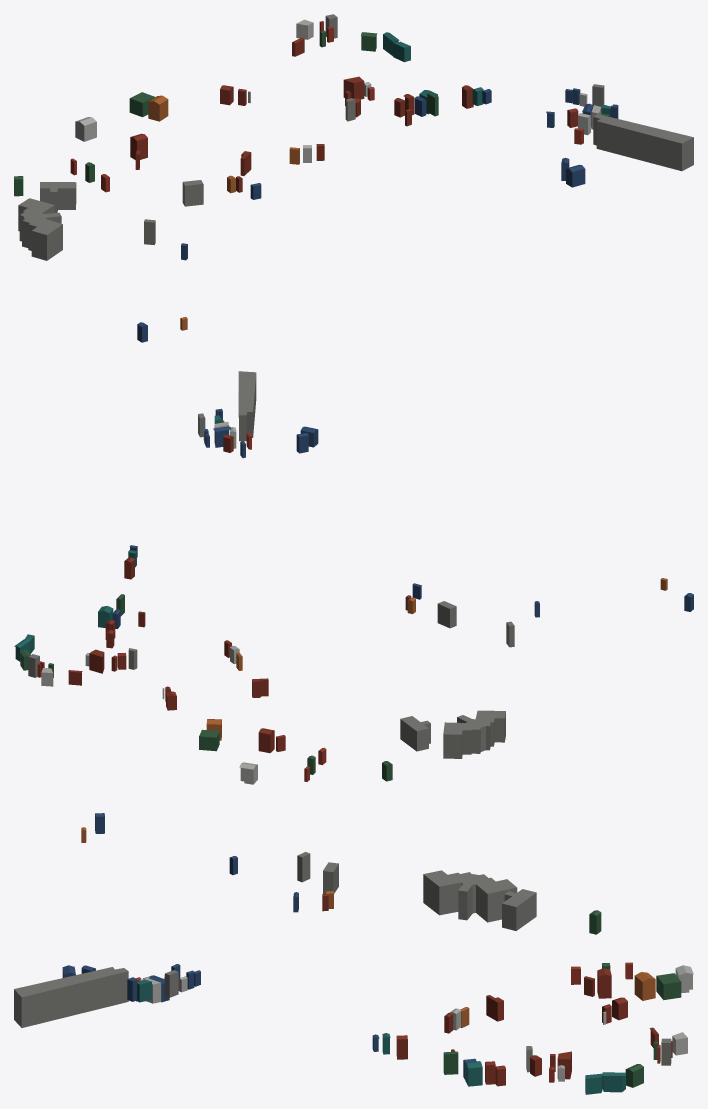
File: near-16-54716-29741.8e61904d.glb
3 renders of one model, top to bottom at view 1: azimuth 30°, elevation 25°; view 2: azimuth 150°, elevation 25°; view 3: azimuth 270°, elevation 25°, orthographic. The views are drawn at different scales.
Size of the model in its own units: 623 by 185 by 636.
